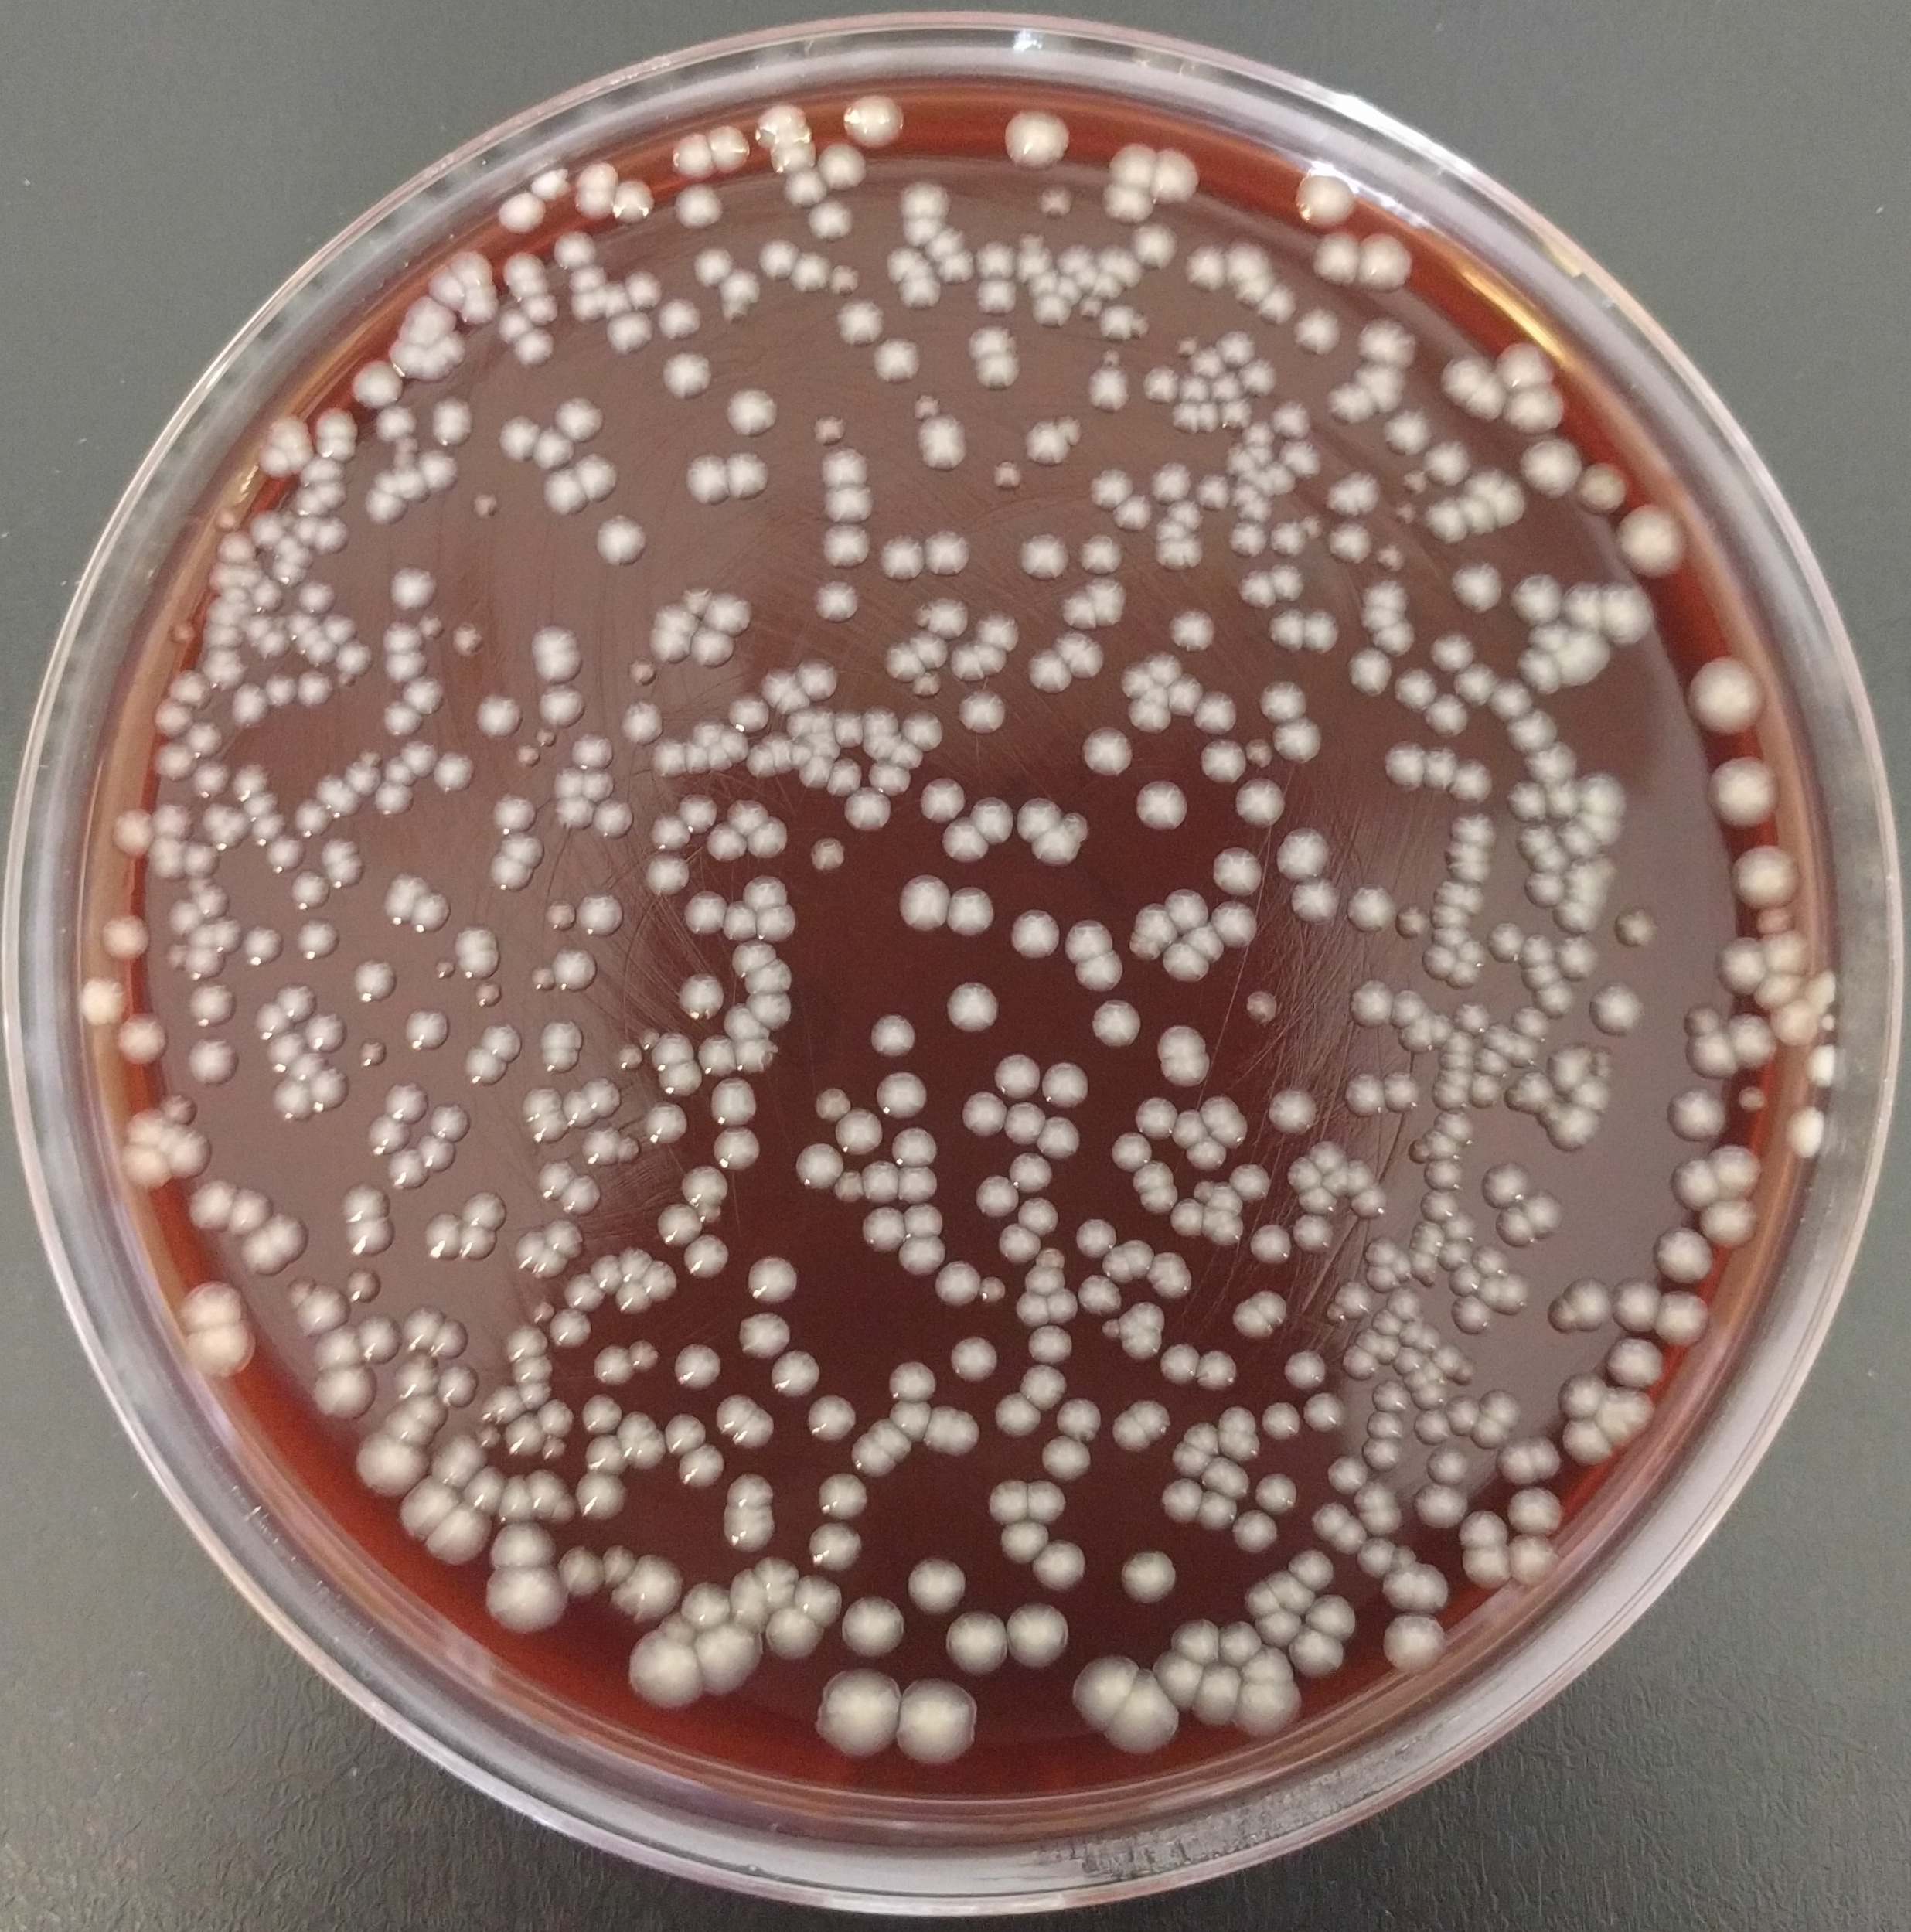sp05: (814, 1664, 901, 1759), (1101, 1668, 1181, 1759), (901, 1673, 978, 1767), (1685, 653, 1771, 737), (628, 1622, 700, 1710), (483, 1563, 567, 1636), (1067, 1654, 1141, 1736), (651, 1340, 724, 1421), (1615, 500, 1691, 578), (1704, 756, 1783, 830), (609, 1554, 684, 1622), (695, 1628, 763, 1699), (1465, 464, 1529, 539), (352, 1437, 429, 1500), (308, 1365, 387, 1426), (1517, 436, 1585, 506), (1291, 168, 1367, 231), (182, 1321, 261, 1381), (1004, 105, 1073, 173), (1731, 843, 1803, 908), (1552, 628, 1619, 697), (1232, 1683, 1312, 1740), (425, 1505, 494, 1570), (842, 1592, 906, 1661), (1006, 1601, 1069, 1671), (1592, 1384, 1656, 1454), (1598, 576, 1657, 649), (1360, 222, 1416, 299), (1382, 1613, 1447, 1680), (401, 1475, 464, 1544), (945, 1610, 1008, 1678), (1652, 1223, 1713, 1290), (292, 1284, 359, 1344), (840, 95, 908, 152), (178, 1281, 255, 1332), (1666, 1083, 1729, 1145), (1309, 224, 1365, 292), (1501, 385, 1571, 438), (1605, 1335, 1666, 1395), (1507, 1533, 1566, 1594), (1487, 340, 1559, 390), (938, 978, 1001, 1036), (914, 411, 969, 476), (770, 1605, 830, 1664), (1585, 978, 1645, 1038), (1538, 1101, 1605, 1153), (427, 1433, 487, 1491), (1377, 406, 1437, 464), (1151, 144, 1200, 214), (906, 1558, 968, 1613), (1122, 1545, 1178, 1606), (1510, 567, 1564, 630), (1354, 313, 1419, 366), (1347, 364, 1412, 417), (1559, 856, 1624, 908), (1729, 1010, 1781, 1075), (1717, 933, 1766, 1001), (1288, 1626, 1347, 1682), (1708, 1143, 1764, 1202), (896, 872, 948, 935), (1659, 1288, 1712, 1351), (1381, 1566, 1451, 1613), (1125, 782, 1192, 831), (807, 1521, 866, 1575), (1447, 558, 1507, 613), (1155, 1649, 1202, 1717), (1697, 1199, 1760, 1249), (112, 1012, 168, 1068), (1278, 828, 1333, 884), (1577, 458, 1634, 513), (1034, 1536, 1088, 1594), (1507, 1486, 1566, 1538), (733, 1311, 796, 1360), (490, 189, 555, 236), (1564, 1274, 1612, 1339), (1613, 1271, 1661, 1335), (721, 1503, 775, 1559), (661, 348, 716, 404), (1015, 532, 1073, 584), (670, 182, 728, 235), (744, 1255, 803, 1306), (161, 1125, 212, 1185), (121, 1145, 180, 1195), (1022, 413, 1073, 473), (346, 357, 406, 408), (394, 296, 455, 345), (793, 1571, 842, 1633), (306, 1321, 360, 1375), (1181, 236, 1223, 306), (1220, 236, 1276, 289), (707, 1076, 765, 1127), (1080, 728, 1137, 779), (723, 385, 780, 436), (802, 1395, 861, 1444), (1193, 1666, 1237, 1733), (184, 1036, 238, 1088), (100, 910, 152, 964), (672, 1440, 724, 1494), (1211, 845, 1265, 898), (1232, 775, 1284, 830), (569, 450, 623, 502), (1561, 1416, 1613, 1470), (1666, 1157, 1719, 1211), (864, 1012, 920, 1062), (1088, 998, 1144, 1048), (833, 299, 889, 350), (1437, 353, 1487, 410), (1503, 707, 1559, 758), (677, 1232, 735, 1281), (710, 1125, 768, 1174), (534, 682, 591, 732), (551, 394, 609, 443), (1347, 977, 1395, 1036), (1412, 1486, 1472, 1533), (683, 450, 728, 511), (752, 100, 814, 145), (816, 140, 870, 191), (187, 1179, 238, 1234), (816, 1470, 870, 1521), (597, 515, 651, 565), (1265, 1087, 1319, 1137), (1424, 436, 1475, 490), (427, 392, 478, 446), (754, 665, 810, 714), (1295, 303, 1344, 359), (1325, 378, 1381, 427), (1346, 644, 1393, 702), (1132, 220, 1179, 278), (724, 448, 770, 508), (793, 1141, 844, 1194), (948, 1333, 999, 1386), (1288, 878, 1340, 929), (1055, 630, 1108, 681), (1108, 138, 1158, 191), (1482, 1159, 1533, 1211), (460, 1041, 509, 1095), (1024, 646, 1073, 700), (497, 411, 546, 466), (816, 446, 878, 488), (383, 567, 441, 613), (1482, 1022, 1540, 1068), (914, 595, 973, 639), (1101, 186, 1160, 229), (1465, 371, 1509, 431), (1523, 744, 1582, 787), (397, 1304, 448, 1355), (341, 1216, 402, 1258), (490, 1526, 560, 1563), (473, 688, 525, 737), (1274, 718, 1323, 770), (817, 487, 878, 528), (541, 467, 590, 520), (1169, 1617, 1221, 1666), (1523, 1187, 1564, 1248), (1685, 1031, 1738, 1080), (1769, 996, 1818, 1048), (768, 1349, 822, 1397), (457, 1463, 504, 1517), (642, 852, 697, 900), (1379, 737, 1424, 793), (707, 123, 752, 179), (884, 1358, 942, 1402), (560, 1542, 604, 1599), (1428, 878, 1493, 917), (1788, 1102, 1827, 1167), (833, 1108, 884, 1157), (401, 1006, 452, 1055), (616, 698, 665, 749), (1323, 521, 1374, 570), (1578, 770, 1628, 821), (1160, 936, 1211, 985), (866, 1416, 915, 1467), (1543, 1041, 1592, 1092), (877, 1071, 929, 1118), (700, 590, 752, 637), (968, 794, 1015, 847), (870, 338, 922, 385), (997, 1523, 1052, 1568), (1041, 1435, 1097, 1479), (1256, 677, 1314, 719), (882, 528, 924, 586), (1041, 1060, 1090, 1110), (992, 1053, 1041, 1102), (581, 1472, 630, 1521), (1011, 908, 1060, 957), (1347, 885, 1396, 935), (1391, 667, 1440, 716), (364, 481, 413, 530), (1267, 1566, 1316, 1615), (82, 977, 129, 1027), (394, 1349, 441, 1400), (842, 787, 892, 835), (604, 311, 654, 359), (994, 1390, 1041, 1440), (651, 1201, 704, 1246), (357, 1309, 402, 1362), (243, 1229, 289, 1281), (383, 870, 429, 922), (948, 884, 994, 936), (938, 819, 990, 865), (1515, 649, 1561, 702), (670, 128, 716, 180), (415, 446, 460, 499), (1760, 929, 1813, 975), (1503, 1069, 1556, 1115), (1213, 896, 1256, 950), (714, 999, 775, 1038), (674, 1164, 730, 1206), (268, 1213, 310, 1269), (1342, 1071, 1384, 1127), (423, 1209, 464, 1267), (229, 677, 269, 735), (896, 179, 954, 219), (374, 1404, 437, 1440), (1445, 754, 1493, 803), (924, 527, 971, 576), (528, 423, 577, 471), (1452, 658, 1500, 707), (683, 1580, 731, 1628), (943, 1405, 980, 1468), (1024, 1477, 1069, 1528), (887, 1395, 938, 1440), (1288, 1547, 1339, 1592), (1307, 1594, 1358, 1640), (227, 1188, 271, 1241), (1029, 828, 1081, 872), (1454, 487, 1498, 539), (110, 803, 152, 858), (1071, 950, 1125, 992), (1557, 929, 1600, 984), (1454, 1507, 1509, 1549), (1573, 810, 1629, 850), (1321, 1160, 1382, 1197), (1036, 1115, 1083, 1162), (933, 1260, 980, 1307), (1001, 1099, 1050, 1145), (1006, 1150, 1055, 1195), (1015, 1195, 1064, 1241), (677, 969, 723, 1019), (742, 987, 791, 1033), (149, 739, 198, 784), (1015, 796, 1060, 845), (807, 199, 856, 245), (1097, 245, 1146, 290), (1248, 1221, 1293, 1271), (527, 1465, 565, 1523), (1356, 576, 1414, 614), (1088, 578, 1132, 628), (819, 525, 870, 569), (1424, 497, 1468, 548), (1423, 697, 1473, 740), (423, 1099, 476, 1141), (409, 889, 452, 942), (434, 745, 476, 798), (1561, 578, 1603, 630), (845, 1435, 898, 1477), (1559, 1076, 1619, 1113), (1382, 1062, 1423, 1117), (1750, 973, 1804, 1013), (1428, 1106, 1482, 1146), (1150, 537, 1206, 576), (1447, 808, 1503, 847), (996, 1221, 1043, 1267), (577, 891, 625, 936), (684, 891, 731, 936), (191, 982, 238, 1027), (920, 775, 968, 821), (690, 245, 737, 290), (371, 399, 418, 444), (1288, 1211, 1333, 1258), (555, 947, 598, 996), (296, 917, 345, 961), (647, 625, 697, 668), (1610, 905, 1659, 949), (656, 298, 705, 341), (612, 177, 656, 226), (1461, 1547, 1510, 1591), (459, 1188, 509, 1230), (730, 940, 780, 982), (338, 1181, 396, 1218), (766, 136, 819, 177), (1552, 821, 1606, 859), (1255, 1610, 1309, 1649), (964, 357, 1024, 392), (1085, 368, 1130, 413), (1150, 460, 1195, 506), (1022, 1363, 1067, 1409), (1302, 1390, 1347, 1435), (959, 1092, 1006, 1136), (590, 1342, 633, 1390), (642, 1101, 690, 1145), (262, 1026, 306, 1073), (961, 691, 1004, 739), (1489, 679, 1533, 726), (511, 327, 558, 371), (1234, 1512, 1281, 1556), (1283, 1346, 1326, 1393), (1202, 1458, 1250, 1501), (1557, 1374, 1605, 1417), (497, 1465, 534, 1521), (674, 793, 723, 835), (647, 595, 697, 637), (1066, 917, 1115, 959), (1230, 271, 1279, 313), (1074, 1276, 1123, 1318), (1221, 1617, 1264, 1666), (366, 1115, 416, 1155), (399, 1395, 450, 1435), (567, 728, 618, 768), (756, 236, 796, 287), (1158, 1477, 1199, 1528), (501, 1323, 553, 1362), (504, 1409, 542, 1461), (459, 277, 495, 331), (1419, 1153, 1473, 1190), (413, 1130, 457, 1176), (544, 1216, 590, 1260), (427, 1318, 471, 1363), (437, 1363, 483, 1407), (380, 695, 423, 740), (747, 817, 791, 863), (882, 639, 926, 684), (1078, 532, 1123, 576), (1514, 927, 1559, 971), (1164, 885, 1209, 929), (1029, 1323, 1074, 1367), (973, 1176, 1020, 1218), (859, 1207, 901, 1255), (476, 1020, 523, 1062), (735, 1031, 782, 1073), (483, 1381, 525, 1428), (352, 959, 399, 1001), (271, 1076, 313, 1123), (646, 810, 693, 852), (814, 579, 861, 621), (1253, 285, 1300, 327), (712, 266, 759, 308), (1799, 1043, 1841, 1090), (494, 828, 542, 868), (1302, 609, 1342, 658), (973, 611, 1022, 651), (1521, 870, 1570, 910), (570, 186, 619, 226), (1160, 1342, 1200, 1391), (577, 1433, 628, 1472), (399, 676, 450, 714), (521, 161, 572, 199), (385, 1150, 429, 1194), (695, 1033, 738, 1076), (261, 831, 304, 875), (1193, 691, 1237, 735), (1011, 235, 1055, 278), (1197, 1489, 1241, 1533), (898, 1236, 943, 1278), (651, 1029, 697, 1071), (1169, 611, 1214, 653), (1057, 584, 1099, 630), (1088, 466, 1134, 508), (1430, 632, 1475, 674), (495, 303, 537, 348), (1055, 1398, 1101, 1440), (1255, 1472, 1300, 1514), (1228, 1160, 1274, 1202), (145, 836, 185, 884), (292, 870, 332, 917), (1239, 353, 1279, 401), (782, 168, 830, 208), (989, 1477, 1029, 1524), (738, 957, 793, 992), (381, 1081, 430, 1120), (553, 229, 602, 268), (654, 1059, 705, 1095), (145, 697, 196, 733), (964, 324, 1020, 357), (1361, 625, 1417, 658), (532, 1159, 576, 1201), (551, 1313, 595, 1355), (243, 922, 285, 966), (229, 760, 273, 801), (1200, 737, 1242, 781), (1214, 327, 1258, 369), (1132, 903, 1176, 945), (1074, 1214, 1118, 1256), (1323, 1452, 1367, 1494), (1199, 1349, 1241, 1393), (1230, 1297, 1272, 1340), (1493, 1207, 1536, 1249), (1451, 1293, 1493, 1337), (1526, 1433, 1561, 1486), (1202, 1204, 1244, 1248), (1134, 1095, 1178, 1137), (584, 1397, 630, 1437), (735, 1407, 775, 1452), (975, 236, 1015, 282), (1108, 1130, 1153, 1171), (1419, 898, 1481, 927), (859, 1159, 898, 1206), (719, 1472, 777, 1503), (973, 282, 1020, 320), (887, 1127, 936, 1164), (278, 978, 315, 1027), (920, 226, 969, 262), (892, 277, 942, 313), (626, 266, 663, 315), (1500, 1269, 1536, 1318), (311, 402, 362, 438), (261, 411, 311, 446), (1495, 1437, 1529, 1487), (560, 1174, 602, 1216), (663, 1414, 705, 1456), (198, 593, 261, 621), (1505, 781, 1547, 823), (1547, 905, 1603, 936), (1129, 697, 1172, 737), (901, 707, 942, 751), (800, 660, 840, 703), (1239, 563, 1279, 607), (1340, 473, 1381, 516), (1270, 399, 1314, 439), (1227, 521, 1270, 562), (1515, 819, 1556, 863), (383, 340, 427, 380), (721, 896, 759, 942), (166, 668, 212, 707), (423, 262, 462, 308), (1181, 926, 1227, 964), (1423, 1446, 1468, 1484), (1423, 744, 1456, 796), (497, 249, 549, 282), (642, 1258, 679, 1306), (149, 800, 196, 836), (1278, 441, 1325, 478), (1529, 980, 1577, 1017), (1269, 611, 1304, 660), (793, 249, 828, 298), (1239, 1649, 1293, 1680), (1354, 604, 1419, 630), (583, 1076, 625, 1117), (521, 1085, 563, 1125), (248, 999, 291, 1039), (371, 782, 413, 823), (492, 854, 534, 894), (1241, 985, 1283, 1026), (1260, 1400, 1302, 1440), (1333, 1279, 1374, 1321), (1481, 1390, 1523, 1430), (1510, 1003, 1552, 1043), (604, 1542, 637, 1592), (1484, 919, 1523, 962), (448, 245, 492, 283), (1185, 1137, 1228, 1176), (1396, 1010, 1435, 1053), (751, 903, 796, 940), (710, 1395, 756, 1432), (122, 1108, 168, 1145), (759, 735, 796, 781), (1545, 777, 1582, 823), (388, 466, 434, 502), (1115, 1409, 1151, 1454), (1360, 1536, 1396, 1582), (525, 651, 584, 679), (1438, 838, 1498, 866), (744, 873, 796, 905), (651, 735, 686, 782), (1157, 1026, 1209, 1057), (724, 796, 773, 830), (304, 1012, 345, 1052), (948, 644, 989, 684), (908, 630, 948, 670), (810, 410, 850, 450), (530, 1242, 569, 1284), (383, 647, 425, 686), (597, 798, 635, 840), (693, 628, 735, 667), (1113, 495, 1151, 537), (1419, 945, 1461, 984), (1132, 1398, 1171, 1440), (1326, 1523, 1368, 1561), (1414, 1405, 1452, 1447), (336, 641, 373, 684), (313, 516, 350, 560), (1323, 478, 1360, 521), (752, 1549, 796, 1586), (1309, 1500, 1353, 1536), (1207, 1111, 1251, 1148), (1162, 1059, 1213, 1090), (452, 922, 497, 957), (709, 821, 744, 866), (1195, 471, 1230, 516), (556, 1274, 604, 1307), (311, 436, 359, 469), (584, 1125, 623, 1165), (513, 1230, 551, 1271), (294, 798, 334, 836), (549, 765, 590, 803), (724, 689, 765, 728), (796, 756, 836, 794), (1034, 294, 1074, 332), (1442, 1395, 1482, 1433), (1171, 1110, 1209, 1150), (810, 836, 847, 878), (255, 439, 292, 481), (1307, 1139, 1349, 1176), (898, 1167, 942, 1202), (586, 1253, 621, 1297), (311, 1069, 346, 1113), (828, 756, 863, 800), (1139, 364, 1174, 408), (1167, 1197, 1202, 1241), (1442, 859, 1500, 885), (1171, 670, 1204, 716), (492, 794, 537, 828), (200, 616, 250, 646), (297, 670, 336, 709), (555, 796, 593, 835), (420, 343, 459, 382), (1283, 1153, 1321, 1192), (460, 1223, 497, 1264), (402, 740, 443, 777), (247, 508, 287, 544), (990, 458, 1027, 499), (429, 325, 466, 366), (1251, 1290, 1291, 1326), (1340, 1346, 1377, 1386), (182, 723, 224, 758), (1521, 845, 1573, 873), (528, 625, 577, 655), (192, 884, 236, 917), (380, 618, 423, 651), (516, 290, 560, 324), (570, 283, 604, 327), (1122, 1332, 1165, 1365), (1122, 1239, 1155, 1283), (1468, 1416, 1512, 1449), (1419, 1188, 1463, 1221), (539, 1019, 584, 1050), (287, 485, 332, 516), (1129, 1160, 1174, 1192), (1682, 1001, 1727, 1033), (572, 161, 623, 189), (1419, 1129, 1470, 1157), (345, 1269, 383, 1306), (971, 642, 1010, 679), (1349, 1185, 1388, 1221), (810, 1087, 850, 1122), (355, 1034, 390, 1075), (870, 763, 910, 798), (830, 264, 864, 304), (934, 254, 975, 289), (1036, 186, 1076, 220), (1095, 303, 1136, 338), (1055, 241, 1095, 277), (1172, 1440, 1213, 1475), (1361, 1439, 1402, 1474), (521, 1115, 569, 1145), (1020, 1265, 1067, 1295), (563, 1085, 597, 1127), (308, 476, 350, 509), (1179, 1421, 1221, 1454), (1200, 1094, 1242, 1127), (905, 1201, 948, 1232), (332, 784, 364, 828), (341, 761, 385, 793), (565, 264, 609, 296), (1099, 1242, 1130, 1286), (900, 217, 948, 245), (1752, 903, 1801, 931), (511, 1351, 556, 1381), (457, 950, 502, 980), (1218, 1433, 1264, 1463), (1148, 1272, 1193, 1302), (1353, 1479, 1398, 1509), (184, 842, 220, 878), (626, 1435, 663, 1472), (1144, 649, 1183, 684), (866, 700, 901, 739), (1129, 926, 1164, 964), (1239, 1578, 1278, 1613), (1270, 523, 1309, 558), (264, 670, 297, 710), (1396, 903, 1430, 943), (502, 277, 556, 301), (884, 245, 926, 277), (1545, 1293, 1577, 1335), (1360, 1509, 1407, 1536), (541, 1397, 572, 1439), (1384, 1286, 1428, 1316), (1137, 1188, 1181, 1218), (329, 856, 366, 891), (1118, 662, 1155, 697), (1519, 621, 1571, 646), (1447, 959, 1484, 994), (1391, 989, 1426, 1026), (320, 836, 359, 870), (1167, 499, 1206, 532), (537, 1048, 583, 1076), (1368, 1384, 1414, 1412), (219, 532, 259, 563), (1449, 999, 1489, 1031), (383, 756, 425, 786), (836, 707, 866, 749), (1440, 1214, 1482, 1244), (285, 1053, 332, 1080), (520, 1381, 556, 1414), (616, 1284, 653, 1318), (452, 625, 488, 658), (744, 745, 777, 782), (1017, 1291, 1050, 1328), (1445, 1265, 1482, 1298), (1470, 1073, 1503, 1110), (296, 579, 334, 611), (835, 1167, 864, 1207), (187, 945, 227, 975), (658, 1613, 698, 1643), (730, 1596, 770, 1626), (1433, 1080, 1473, 1110), (614, 1410, 654, 1440), (884, 740, 926, 768), (1150, 516, 1192, 544), (1363, 1409, 1405, 1437), (161, 1092, 196, 1125), (1167, 401, 1200, 436), (630, 1337, 661, 1374), (285, 1272, 317, 1309), (618, 1246, 654, 1278), (583, 768, 619, 800), (1274, 562, 1305, 599), (1267, 458, 1298, 495), (1431, 926, 1479, 950), (1473, 1242, 1505, 1279), (1808, 969, 1839, 1006), (1519, 961, 1559, 989), (1295, 1190, 1340, 1214), (166, 898, 200, 931), (864, 737, 906, 763), (1734, 1083, 1769, 1115), (679, 583, 716, 613), (728, 1565, 765, 1594), (191, 765, 229, 793), (1059, 413, 1087, 452), (1192, 345, 1230, 373), (1127, 1302, 1167, 1328), (259, 632, 292, 663), (719, 728, 751, 761), (1458, 940, 1493, 969), (1410, 1218, 1440, 1253), (273, 548, 318, 570), (213, 914, 238, 956), (602, 278, 630, 315), (1050, 1290, 1078, 1326), (707, 742, 733, 781), (1437, 1029, 1481, 1052), (546, 900, 576, 933), (1181, 371, 1211, 404), (1221, 401, 1251, 434), (1363, 1234, 1396, 1264), (1211, 1185, 1244, 1214), (1409, 1251, 1438, 1284), (308, 772, 343, 800), (1388, 500, 1423, 528), (1479, 1048, 1514, 1076), (1239, 417, 1276, 443), (686, 742, 710, 781), (1594, 1043, 1619, 1081), (325, 613, 355, 644), (1379, 544, 1410, 574), (1211, 373, 1241, 404), (978, 1274, 1011, 1302), (471, 492, 504, 520), (248, 583, 282, 611), (1060, 810, 1088, 843), (1220, 1405, 1253, 1433), (528, 964, 555, 999), (1398, 469, 1433, 495), (476, 1417, 501, 1454), (1151, 1249, 1188, 1274), (474, 982, 504, 1012), (628, 658, 656, 689), (1092, 271, 1120, 303), (1433, 1050, 1479, 1069), (1027, 268, 1060, 294), (1405, 1134, 1431, 1167), (1417, 1318, 1442, 1353), (1234, 500, 1274, 521), (1195, 402, 1218, 439), (430, 956, 459, 985), (203, 803, 233, 831), (304, 639, 334, 667), (1372, 1307, 1400, 1337), (616, 1041, 642, 1073), (191, 922, 222, 949), (1431, 1012, 1456, 1045), (551, 1493, 572, 1531), (226, 803, 248, 838), (418, 614, 444, 644), (1244, 444, 1274, 471), (723, 304, 752, 331), (1367, 1265, 1396, 1291), (213, 508, 245, 532), (691, 718, 723, 742), (1095, 345, 1132, 366), (787, 705, 810, 739), (1248, 737, 1270, 770), (908, 672, 942, 695), (198, 647, 245, 663), (1033, 1246, 1067, 1267), (637, 1022, 661, 1052), (1223, 446, 1253, 471), (1419, 1358, 1449, 1382), (618, 1132, 640, 1164), (205, 831, 241, 850), (1379, 1333, 1400, 1367), (810, 709, 836, 735), (1391, 1542, 1417, 1568), (697, 1202, 724, 1227), (528, 1298, 556, 1323), (766, 1580, 791, 1608), (1440, 1244, 1465, 1272), (1458, 1356, 1481, 1386), (1302, 511, 1326, 537), (1393, 1248, 1410, 1284), (1097, 1314, 1118, 1344), (1323, 1298, 1344, 1328), (1440, 1344, 1461, 1374), (285, 613, 317, 632), (514, 745, 541, 768), (296, 513, 318, 539), (166, 942, 187, 969), (1398, 1342, 1419, 1370), (1143, 682, 1167, 705), (1354, 1326, 1379, 1349), (1419, 1382, 1442, 1407), (544, 1440, 570, 1461), (1174, 332, 1200, 353), (1234, 479, 1260, 500), (1400, 1321, 1421, 1348), (915, 397, 943, 417), (238, 567, 268, 584), (210, 567, 236, 586), (1403, 1368, 1430, 1388), (537, 730, 560, 751), (814, 739, 836, 760), (1134, 308, 1151, 334), (1192, 1178, 1213, 1199), (1818, 1012, 1837, 1034), (791, 742, 810, 761), (362, 751, 381, 765)
